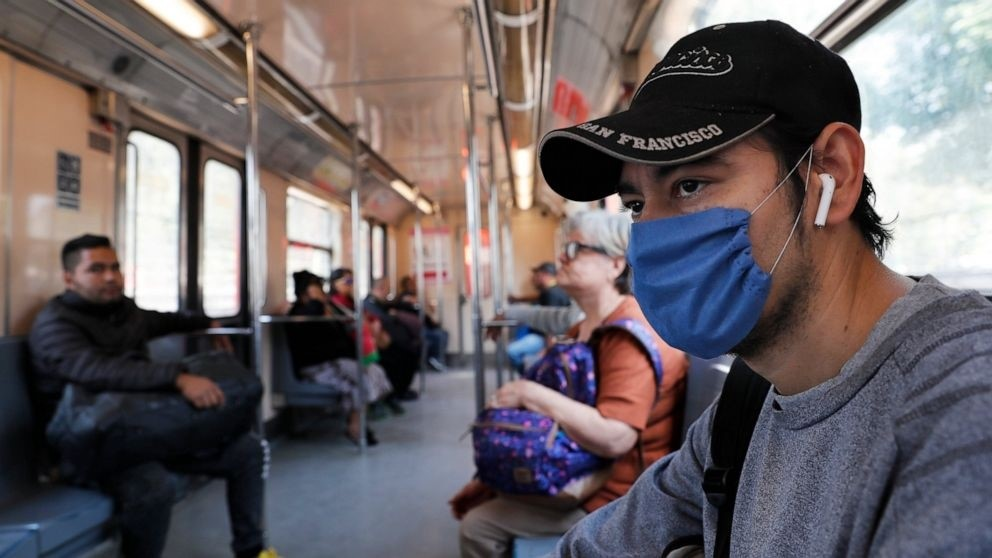face_no_mask: (64, 236, 132, 306)
face_with_mask: (597, 23, 866, 358)
